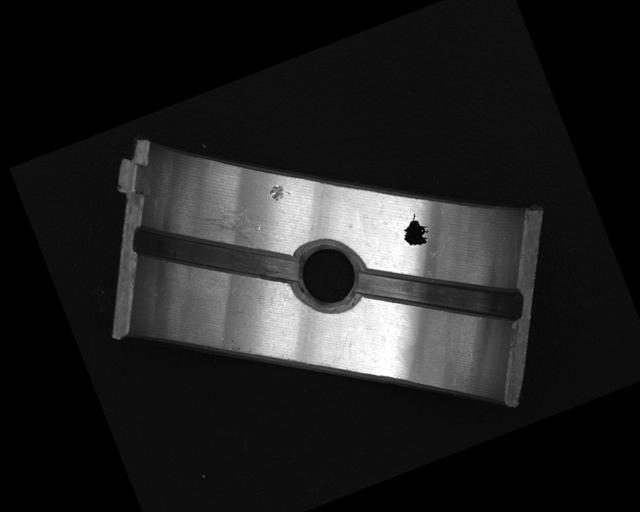blot: (395, 210, 433, 252)
bruise: (267, 180, 291, 203)
gap: (127, 179, 301, 331), (357, 221, 526, 366)
hole: (284, 233, 371, 319)
scratch: (182, 191, 266, 268)
